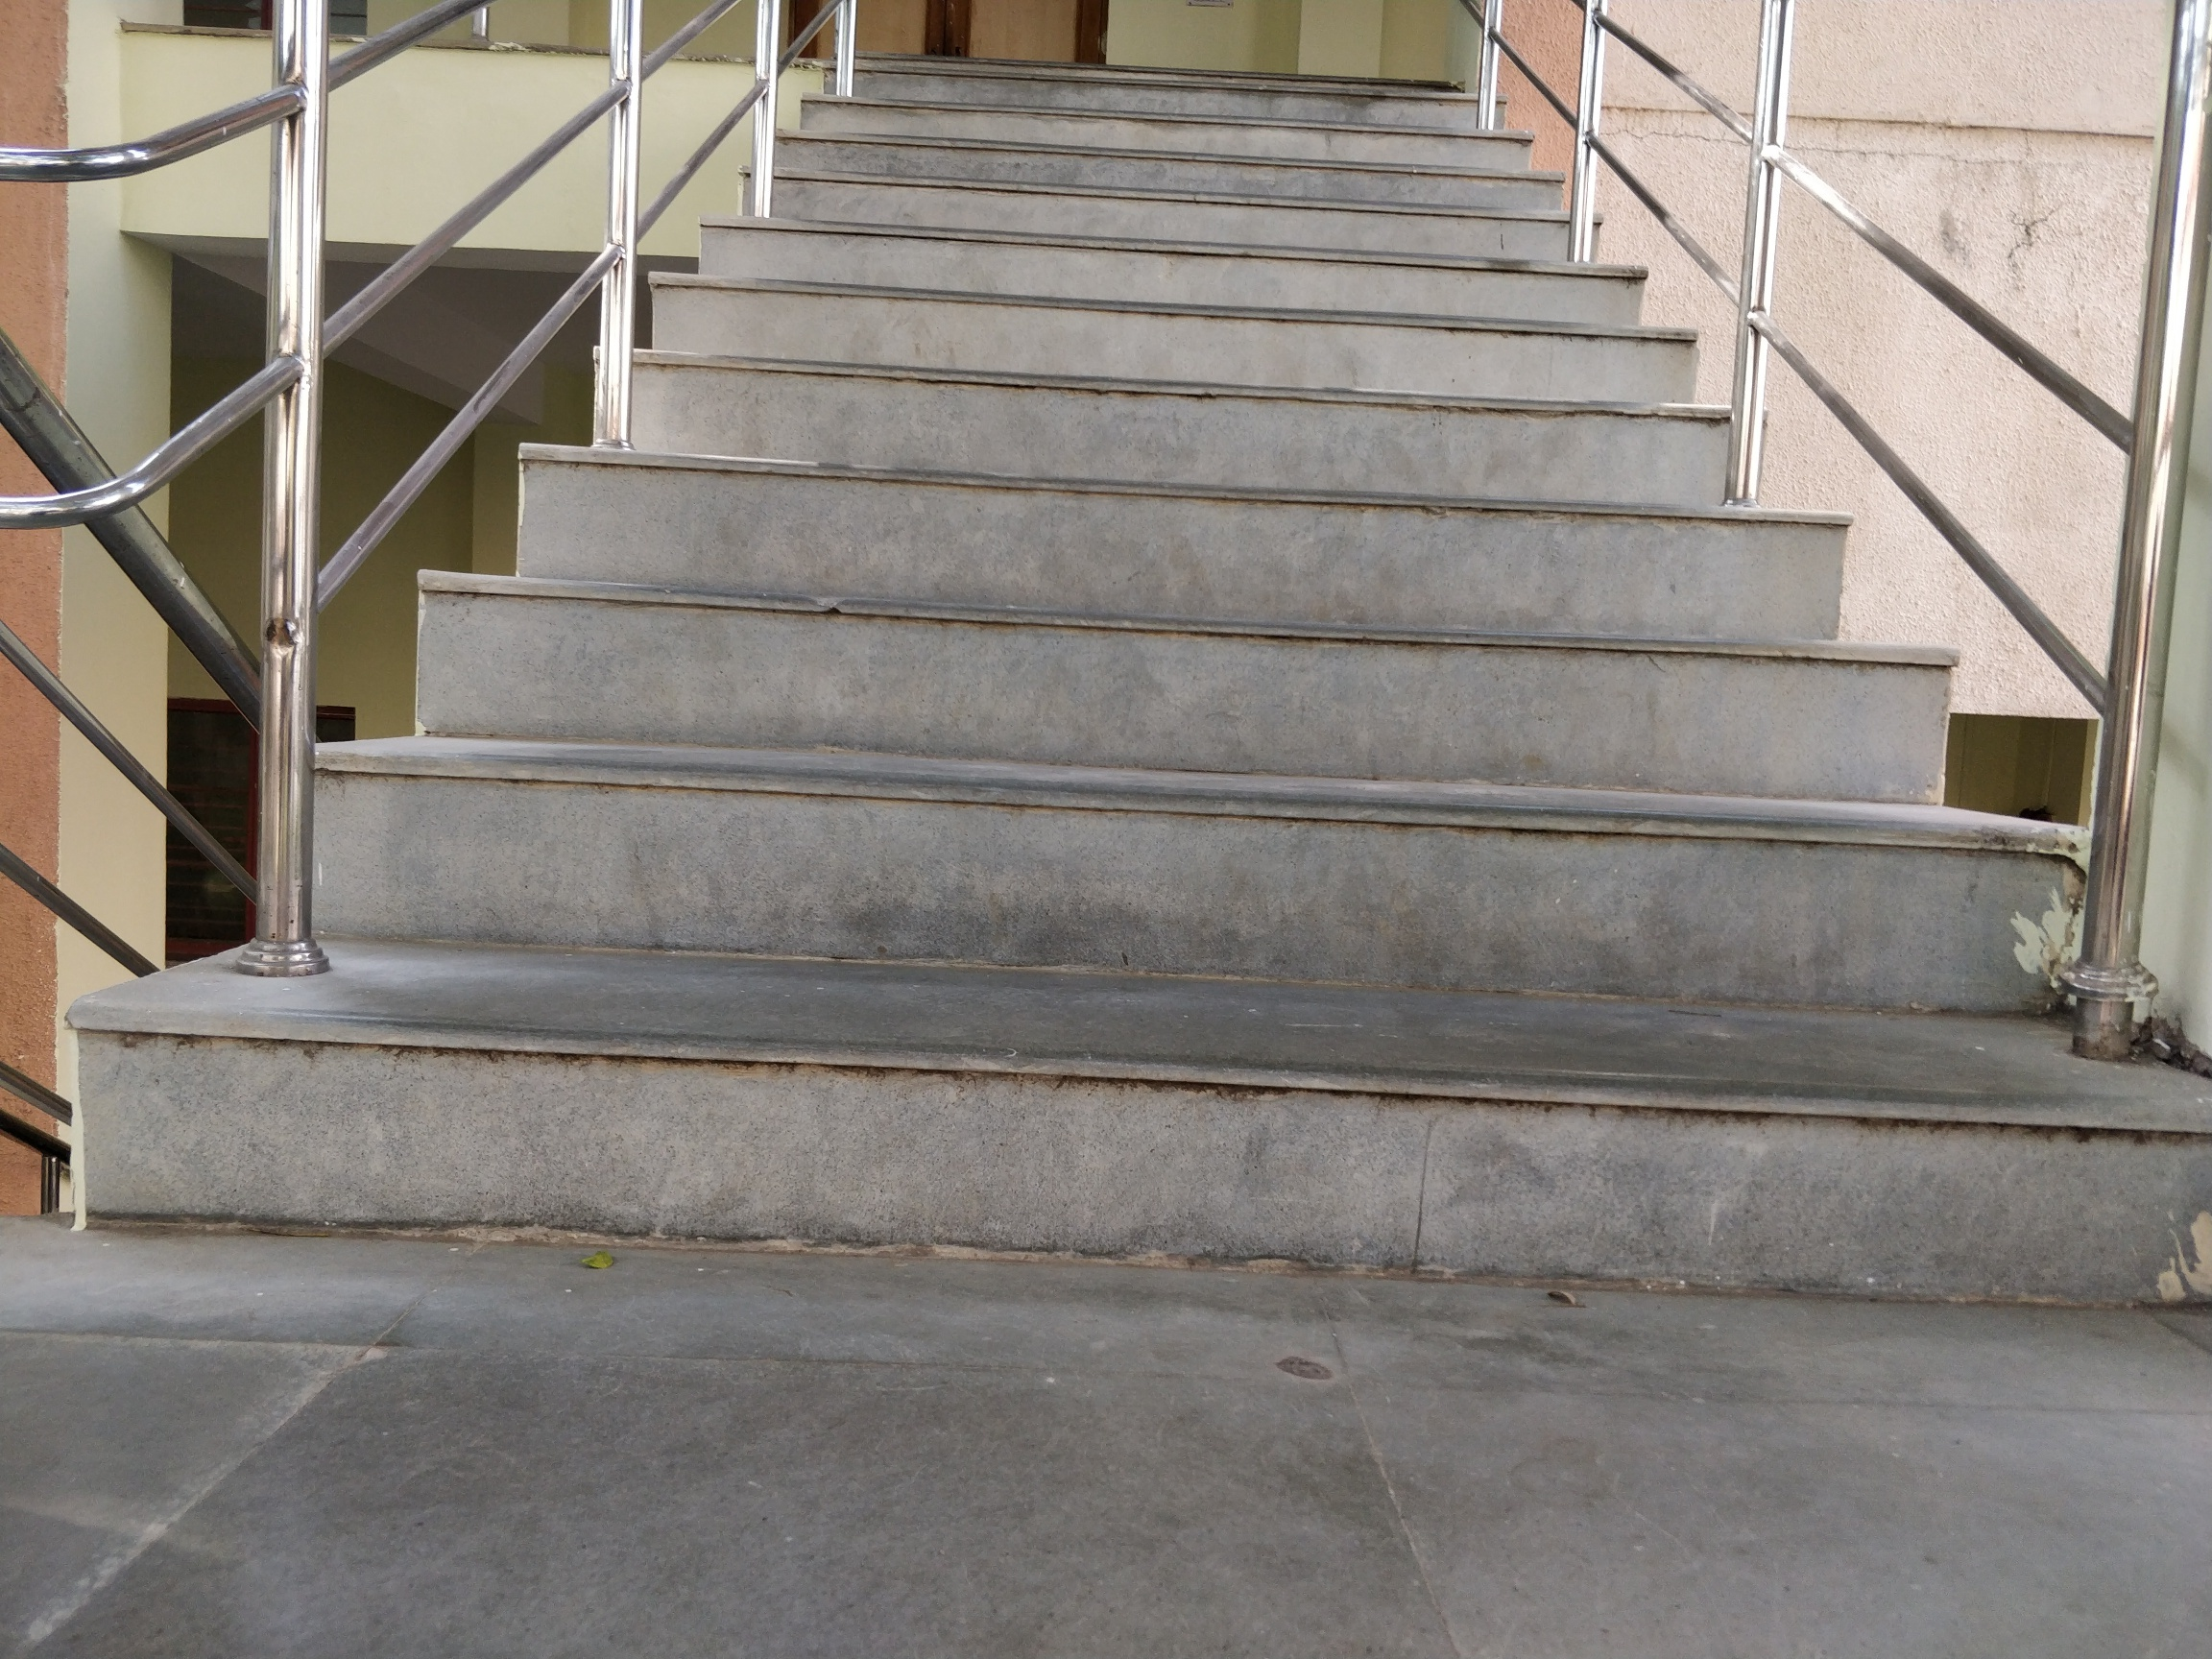stairs_up: (105, 202, 2151, 1328)
